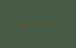eight: (47, 19, 52, 26)
four: (35, 20, 40, 27)
nine: (17, 21, 22, 29)
one: (53, 18, 58, 26)
six: (23, 21, 28, 28)
three: (41, 19, 46, 27)
two: (29, 20, 34, 28)
